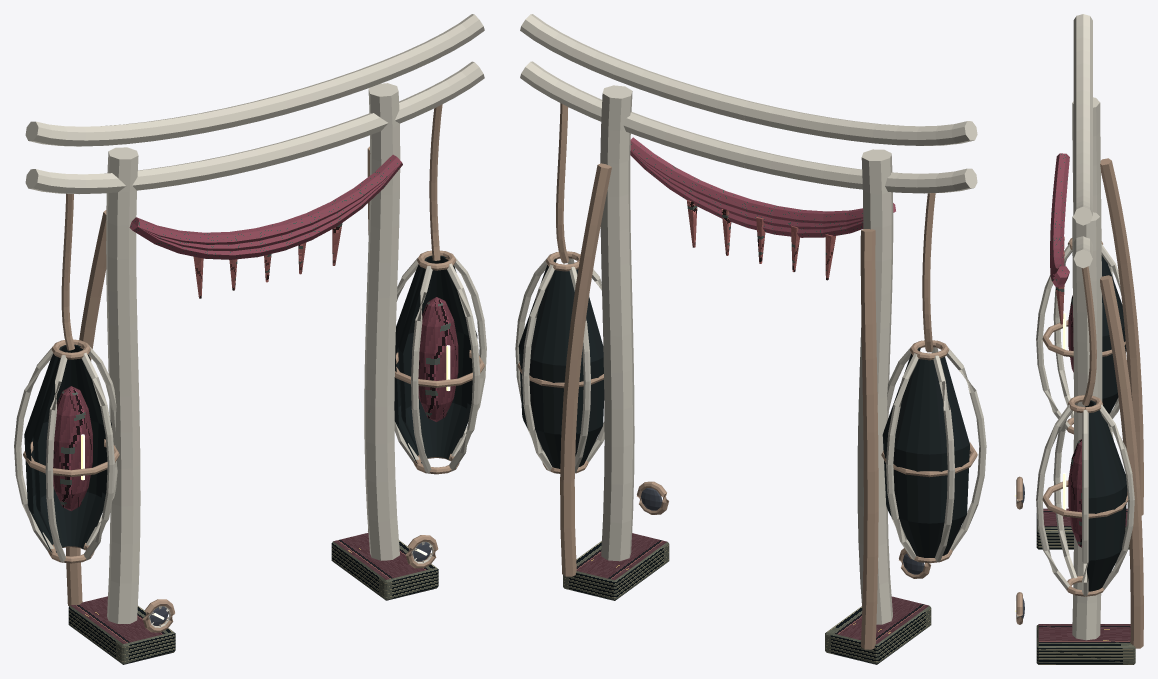
Rendered from nursery_bound_gate.glb.
3 views of the same model, side by side, from view 1: azimuth 30°, elevation 25°; view 2: azimuth 150°, elevation 25°; view 3: azimuth 270°, elevation 25° (orthographic). The views are drawn at different scales.
Parts seen in each view (by area): view 1: nursery_bound_gate_warm, nursery_bound_gate_petrol, nursery_bound_gate_bruised, nursery_bound_gate_worn, nursery_bound_gate_suture; view 2: nursery_bound_gate_warm, nursery_bound_gate_petrol, nursery_bound_gate_worn, nursery_bound_gate_bruised, nursery_bound_gate_suture; view 3: nursery_bound_gate_warm, nursery_bound_gate_worn, nursery_bound_gate_petrol, nursery_bound_gate_bruised, nursery_bound_gate_sick, nursery_bound_gate_suture.
Boxes of the visible parts, left/top/right/bottom form: nursery_bound_gate_warm: left=14, top=14, right=486, bottom=627; nursery_bound_gate_petrol: left=24, top=255, right=477, bottom=664; nursery_bound_gate_bruised: left=53, top=154, right=458, bottom=511; nursery_bound_gate_worn: left=23, top=104, right=484, bottom=632; nursery_bound_gate_suture: left=193, top=223, right=342, bottom=298; nursery_bound_gate_warm: left=515, top=14, right=986, bottom=624; nursery_bound_gate_petrol: left=518, top=259, right=969, bottom=664; nursery_bound_gate_worn: left=517, top=103, right=977, bottom=649; nursery_bound_gate_bruised: left=630, top=137, right=895, bottom=237; nursery_bound_gate_suture: left=687, top=200, right=835, bottom=280; nursery_bound_gate_warm: left=1017, top=14, right=1134, bottom=640; nursery_bound_gate_worn: left=1016, top=158, right=1143, bottom=648; nursery_bound_gate_petrol: left=1036, top=255, right=1135, bottom=664; nursery_bound_gate_bruised: left=1050, top=153, right=1081, bottom=547; nursery_bound_gate_sick: left=1015, top=312, right=1066, bottom=611; nursery_bound_gate_suture: left=1055, top=236, right=1064, bottom=324.
Size of the model in its own units: 6.46 by 7.27 by 1.75.
7 materials, 3 textured.
